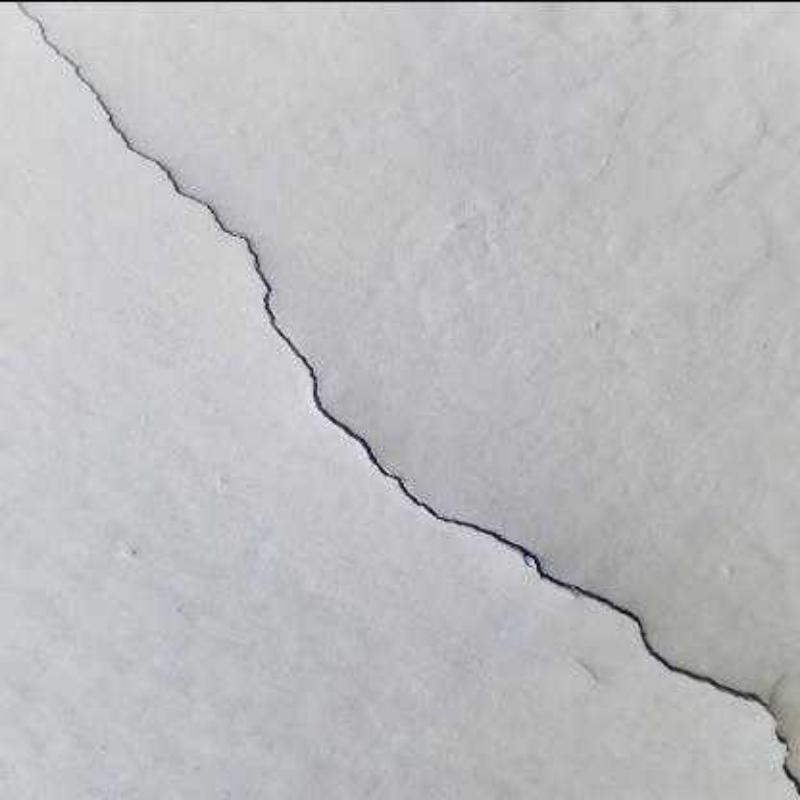pothole: (13, 0, 800, 800)
